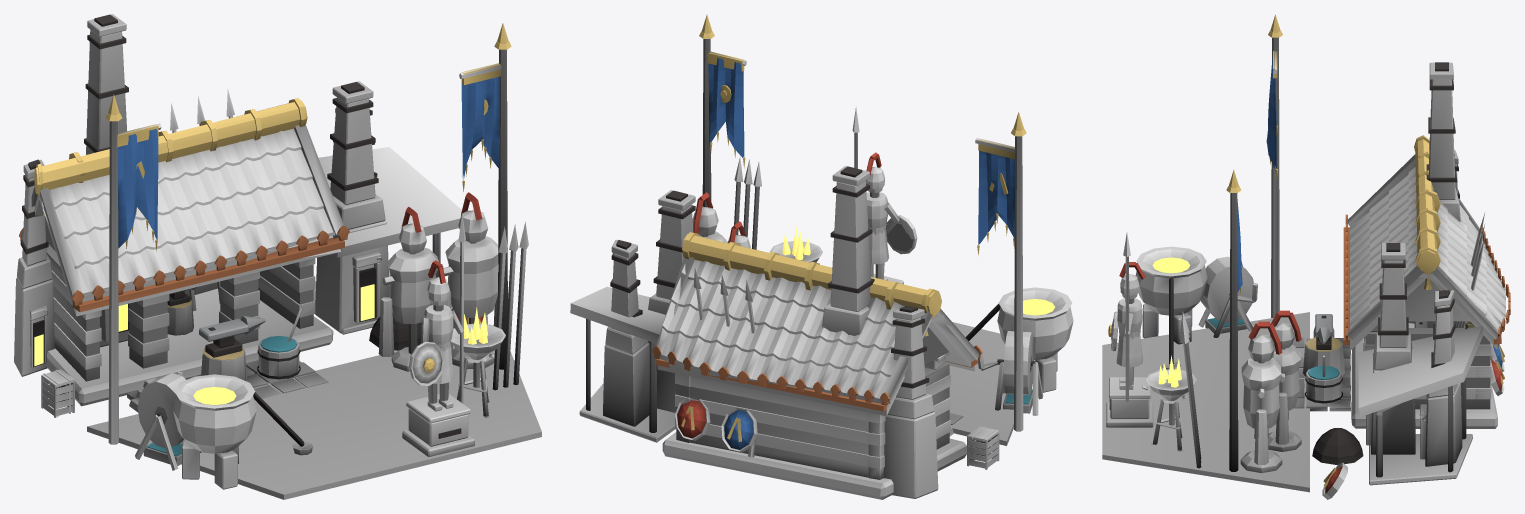
Rendered from forge-l3.glb.
3 renders of one model, left to right at view 1: azimuth 30°, elevation 25°; view 2: azimuth 150°, elevation 25°; view 3: azimuth 270°, elevation 25°, orthographic. The views are drawn at different scales.
Visible parts, largest first — view 1: forge-l3; view 2: forge-l3; view 3: forge-l3.
Part boxes in pixels (x1=…): forge-l3: x1=14, y1=14, x2=541, y2=499; forge-l3: x1=570, y1=14, x2=1073, y2=499; forge-l3: x1=1102, y1=14, x2=1510, y2=499.
Size of the model in its own units: 1.38 by 1.13 by 1.31.
